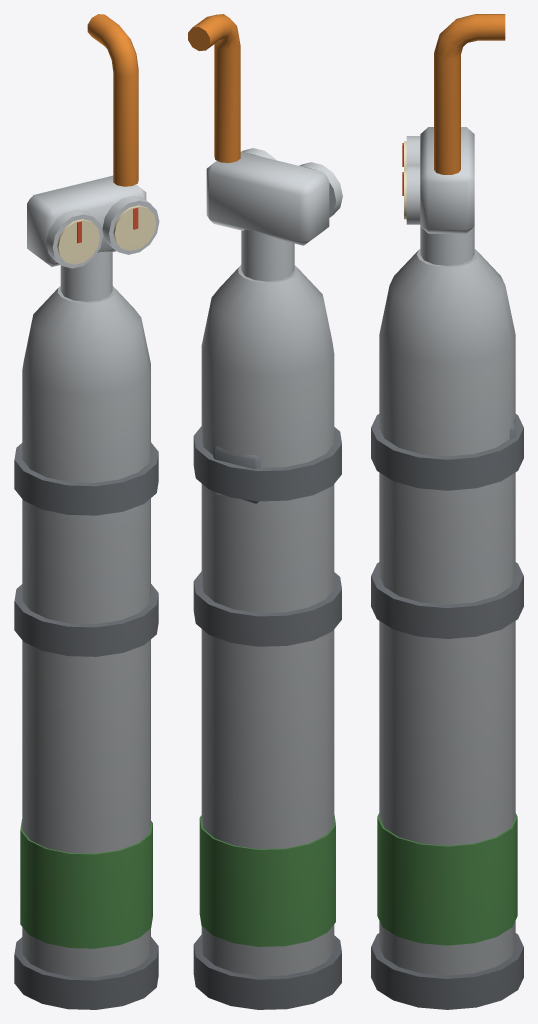
The model's file is SM_CO2_Tank_Wall_01.glb.
3 views of the same model, side by side, from view 1: azimuth 30°, elevation 25°; view 2: azimuth 150°, elevation 25°; view 3: azimuth 270°, elevation 25° (orthographic). The views are drawn at different scales.
Visible parts, largest first — view 1: SM_CO2_Tank_Wall_01; view 2: SM_CO2_Tank_Wall_01; view 3: SM_CO2_Tank_Wall_01.
Part boxes in pixels (x1,y1,x2,y2): SM_CO2_Tank_Wall_01: (14, 14, 159, 1009); SM_CO2_Tank_Wall_01: (188, 14, 342, 1009); SM_CO2_Tank_Wall_01: (371, 14, 523, 1009).
Size of the model in its own units: 0.224 by 1.59 by 0.224.
Materials: 1 (1 with a texture image).
